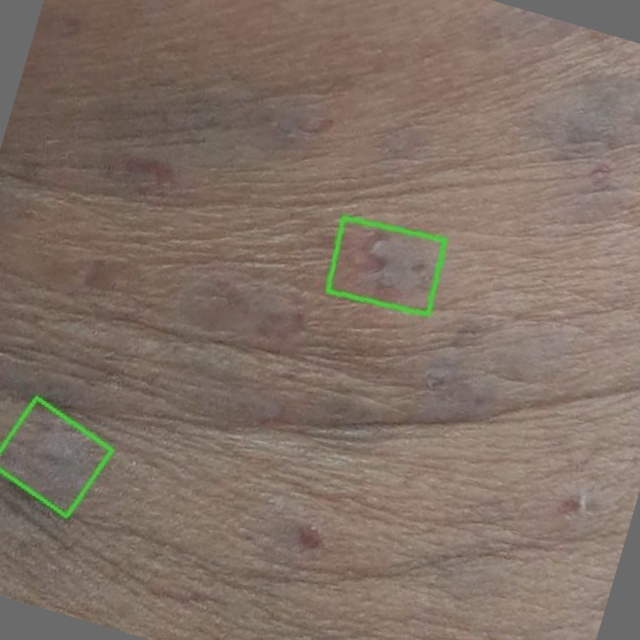Contact Dermatitis: (0, 398, 112, 517), (327, 218, 445, 314)
